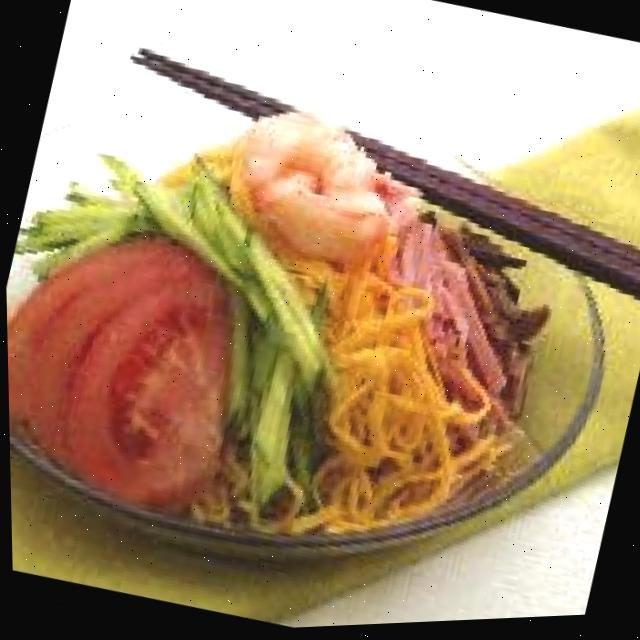面条主食: (1, 39, 640, 640)
